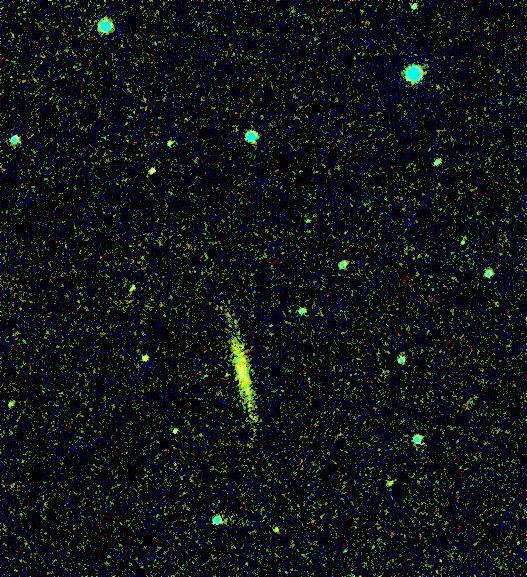star: (375, 468, 405, 498)
